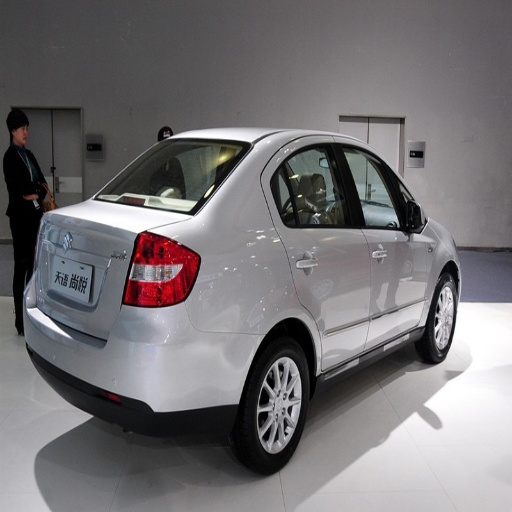back_bumper: (26, 301, 260, 440)
back_right_door: (269, 139, 372, 367)
